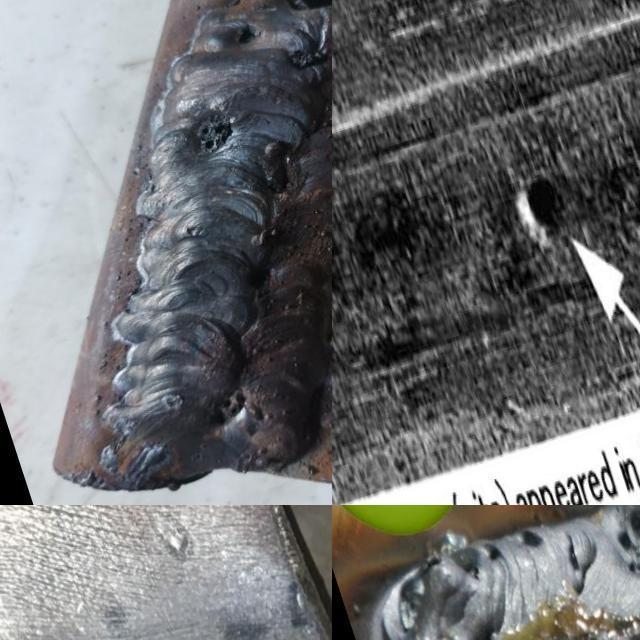defect: (508, 152, 575, 235), (396, 553, 447, 636), (185, 112, 236, 156), (206, 384, 256, 428), (614, 505, 640, 583), (558, 532, 587, 599), (286, 44, 332, 68), (518, 522, 548, 554), (230, 23, 265, 45), (464, 619, 499, 640), (244, 266, 274, 290), (483, 541, 507, 569), (462, 560, 485, 584), (159, 392, 183, 411)
